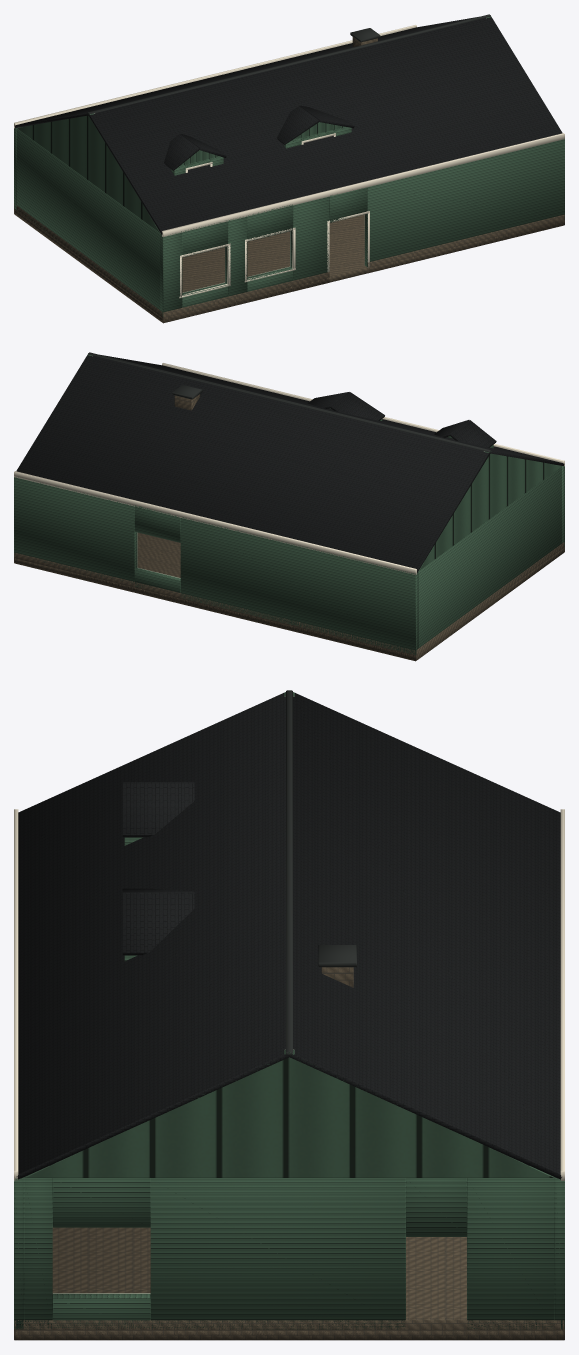
The model's file is asset_051_finished_clubhouse_exterior.glb.
The picture shows the model from 3 angles, top to bottom: view 1: azimuth 30°, elevation 25°; view 2: azimuth 150°, elevation 25°; view 3: azimuth 270°, elevation 25°; orthographic projection. The views are drawn at different scales.
Visible parts, largest first — view 1: MESH_RoofSouthPlane, MESH_FrontPier_East, MESH_WestWall, MESH_FoundationPlinth, MESH_FieldstoneWaterTable, MESH_WestGable, MESH_FrontFascia, MESH_FrontPier_2, MESH_RoofNorthPlane, MESH_FrontPier_0, MESH_FrontPier_1, MESH_BackFascia (+12 smaller); view 2: MESH_RoofNorthPlane, MESH_BackWall, MESH_WestWall, MESH_FieldstoneWaterTable, MESH_WestGable, MESH_FoundationPlinth, MESH_BackFascia, MESH_RoofSouthPlane, MESH_RidgeCap, MESH_DormerEntry_ShingleRoof, MESH_FrontFascia, MESH_DormerWest_ShingleRoof; view 3: MESH_RoofNorthPlane, MESH_RoofSouthPlane, MESH_EastPier_1, MESH_EastGable, MESH_FoundationPlinth, MESH_EastPier_North, MESH_FieldstoneWaterTable, MESH_EastAbove_EastWindow, MESH_EastPier_0, MESH_DormerEntry_ShingleRoof, MESH_EastAbove_ServiceDoor, MESH_DormerWest_ShingleRoof (+7 smaller).
Boxes of the visible parts, <box> form: MESH_RoofSouthPlane: <box>88,17,562,234</box>; MESH_FrontPier_East: <box>365,139,564,267</box>; MESH_WestWall: <box>17,128,160,309</box>; MESH_FoundationPlinth: <box>14,209,534,321</box>; MESH_FieldstoneWaterTable: <box>14,204,564,323</box>; MESH_WestGable: <box>17,113,159,232</box>; MESH_FrontFascia: <box>162,133,564,236</box>; MESH_FrontPier_2: <box>290,196,329,280</box>; MESH_RoofNorthPlane: <box>15,17,477,127</box>; MESH_FrontPier_0: <box>160,231,182,316</box>; MESH_FrontPier_1: <box>225,216,247,300</box>; MESH_BackFascia: <box>14,25,416,128</box>; MESH_RoofNorthPlane: <box>16,355,490,572</box>; MESH_BackWall: <box>14,477,418,654</box>; MESH_WestWall: <box>418,466,561,647</box>; MESH_FieldstoneWaterTable: <box>14,542,564,661</box>; MESH_WestGable: <box>419,451,561,570</box>; MESH_FoundationPlinth: <box>14,532,564,659</box>; MESH_BackFascia: <box>14,471,416,574</box>; MESH_RoofSouthPlane: <box>101,355,564,465</box>; MESH_RidgeCap: <box>88,352,490,452</box>; MESH_DormerEntry_ShingleRoof: <box>307,392,384,420</box>; MESH_FrontFascia: <box>162,363,564,466</box>; MESH_DormerWest_ShingleRoof: <box>434,420,496,447</box>; MESH_RoofNorthPlane: <box>289,693,561,1179</box>; MESH_RoofSouthPlane: <box>16,693,289,1179</box>; MESH_EastPier_1: <box>150,1178,405,1329</box>; MESH_EastGable: <box>24,1050,554,1177</box>; MESH_FoundationPlinth: <box>15,1227,563,1339</box>; MESH_EastPier_North: <box>467,1177,554,1329</box>; MESH_FieldstoneWaterTable: <box>14,1318,564,1340</box>; MESH_EastAbove_EastWindow: <box>52,1178,150,1227</box>; MESH_EastPier_0: <box>24,1177,52,1329</box>; MESH_DormerEntry_ShingleRoof: <box>122,888,194,955</box>; MESH_EastAbove_ServiceDoor: <box>406,1178,466,1236</box>; MESH_DormerWest_ShingleRoof: <box>122,782,194,837</box>.
Size of the model in its own units: 19.2 by 7.13 by 12.34.
Materials: 8 (3 with a texture image).
